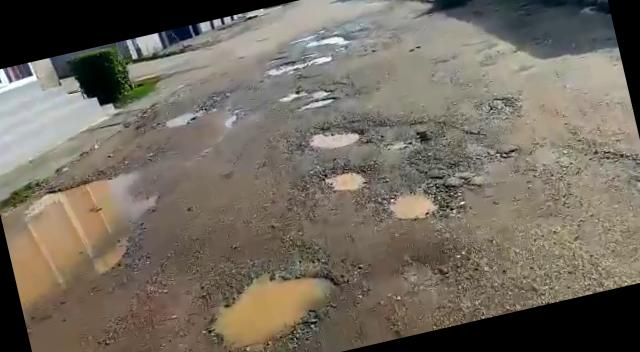pothole: (200, 252, 354, 352), (379, 178, 454, 228), (301, 119, 365, 157), (320, 160, 376, 196), (262, 50, 334, 78), (294, 91, 342, 113), (162, 109, 202, 130)
